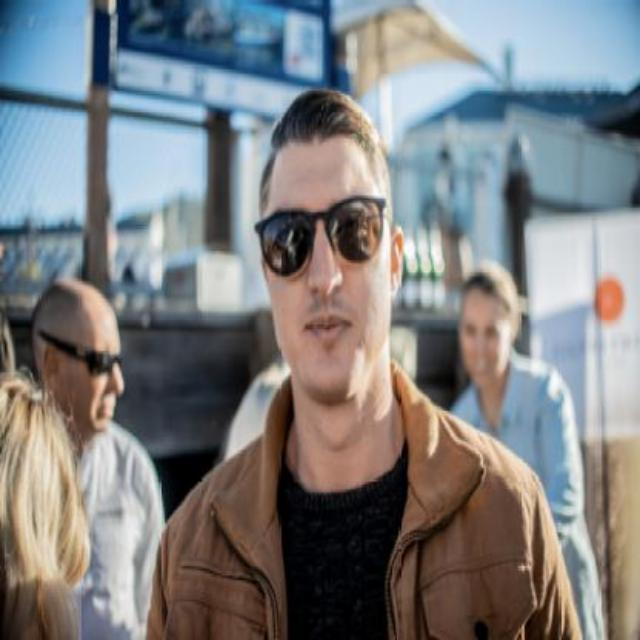glasses: (252, 196, 393, 276)
